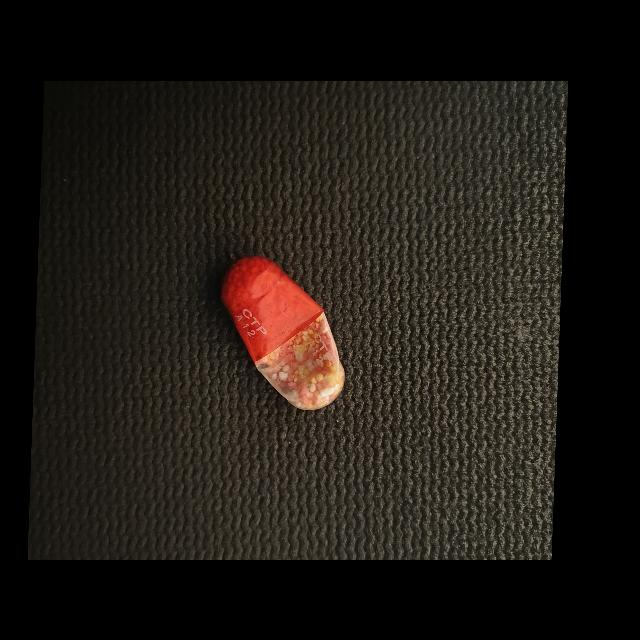Defective Capsule: (221, 255, 345, 410)
